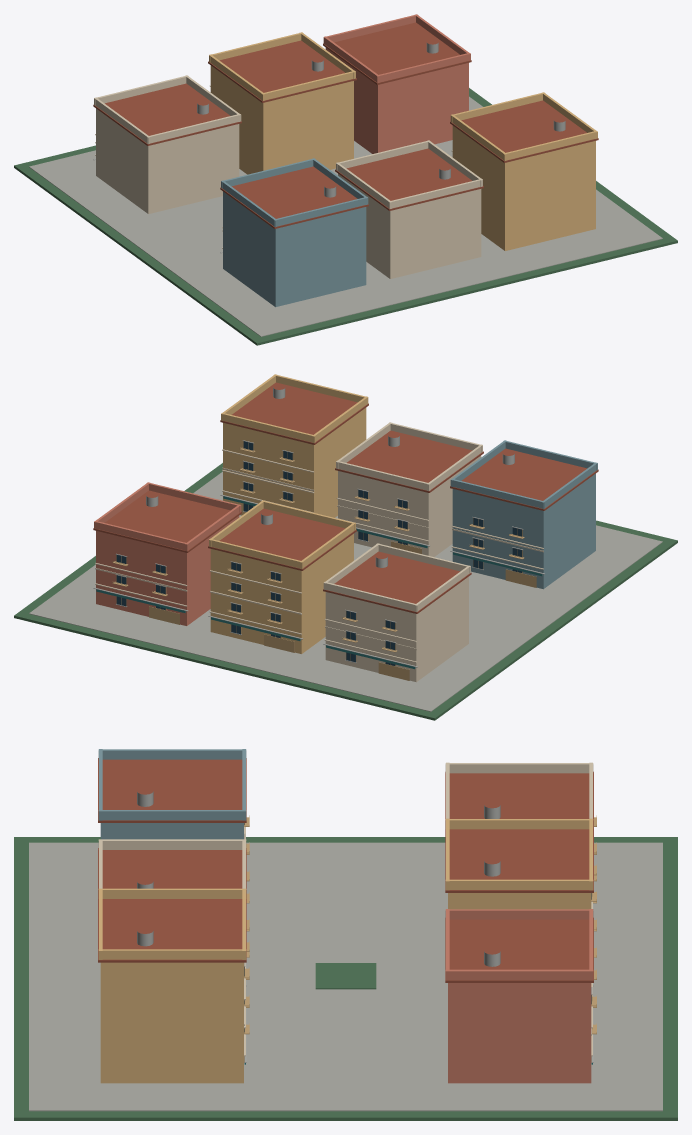
The model's file is bogota-la-candelaria-block.glb.
The picture shows the model from 3 angles, top to bottom: view 1: azimuth 30°, elevation 25°; view 2: azimuth 150°, elevation 25°; view 3: azimuth 270°, elevation 25°; orthographic projection. The views are drawn at different scales.
Parts seen in each view (by area): view 1: bogota-la-candelaria-block; view 2: bogota-la-candelaria-block; view 3: bogota-la-candelaria-block.
Boxes of the visible parts, x1=… form: bogota-la-candelaria-block: x1=14, y1=14, x2=677, y2=345; bogota-la-candelaria-block: x1=14, y1=374, x2=677, y2=720; bogota-la-candelaria-block: x1=14, y1=749, x2=677, y2=1120.
Size of the model in its own units: 88 by 20.98 by 88.
